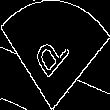P_SW: (33, 24, 77, 86)
